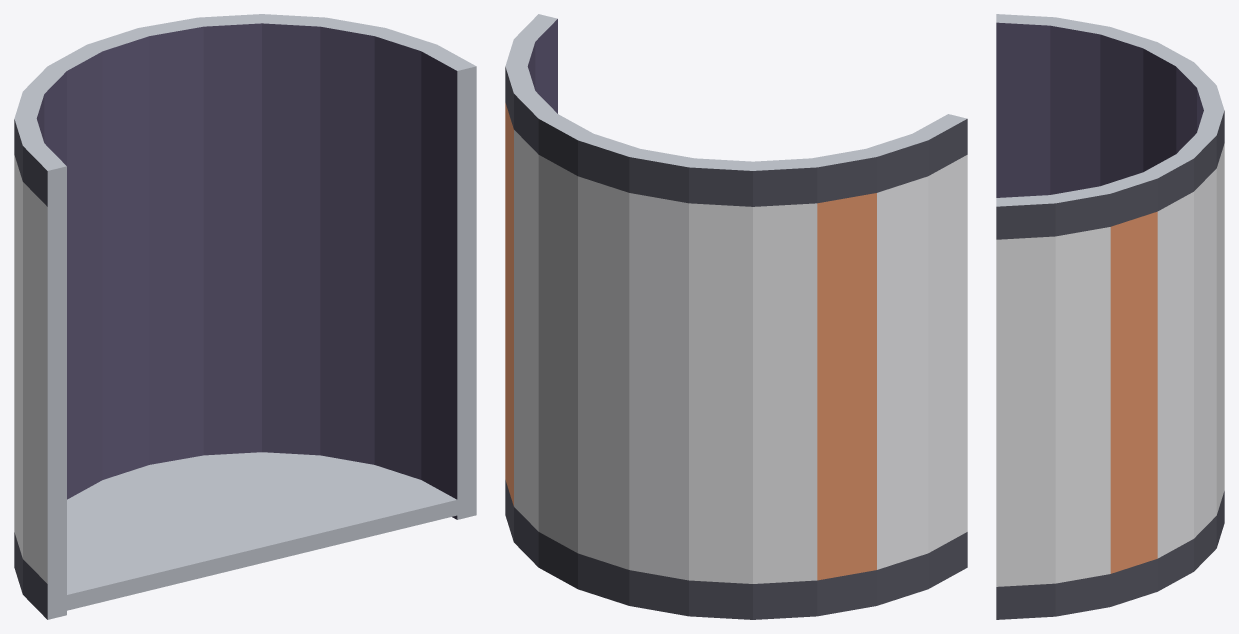
File: internal_stage_cutaway.glb
3 renders of one model, left to right at view 1: azimuth 30°, elevation 25°; view 2: azimuth 150°, elevation 25°; view 3: azimuth 270°, elevation 25°, orthographic. The views are drawn at different scales.
Visible parts, largest first — view 1: InternalStage; view 2: InternalStage; view 3: InternalStage.
Part boxes in pixels (bbox=[...]): InternalStage: bbox=[14, 14, 476, 619]; InternalStage: bbox=[505, 14, 967, 619]; InternalStage: bbox=[996, 14, 1224, 619].
Bounding box in the file's own units: 1 × 1 × 0.5.
